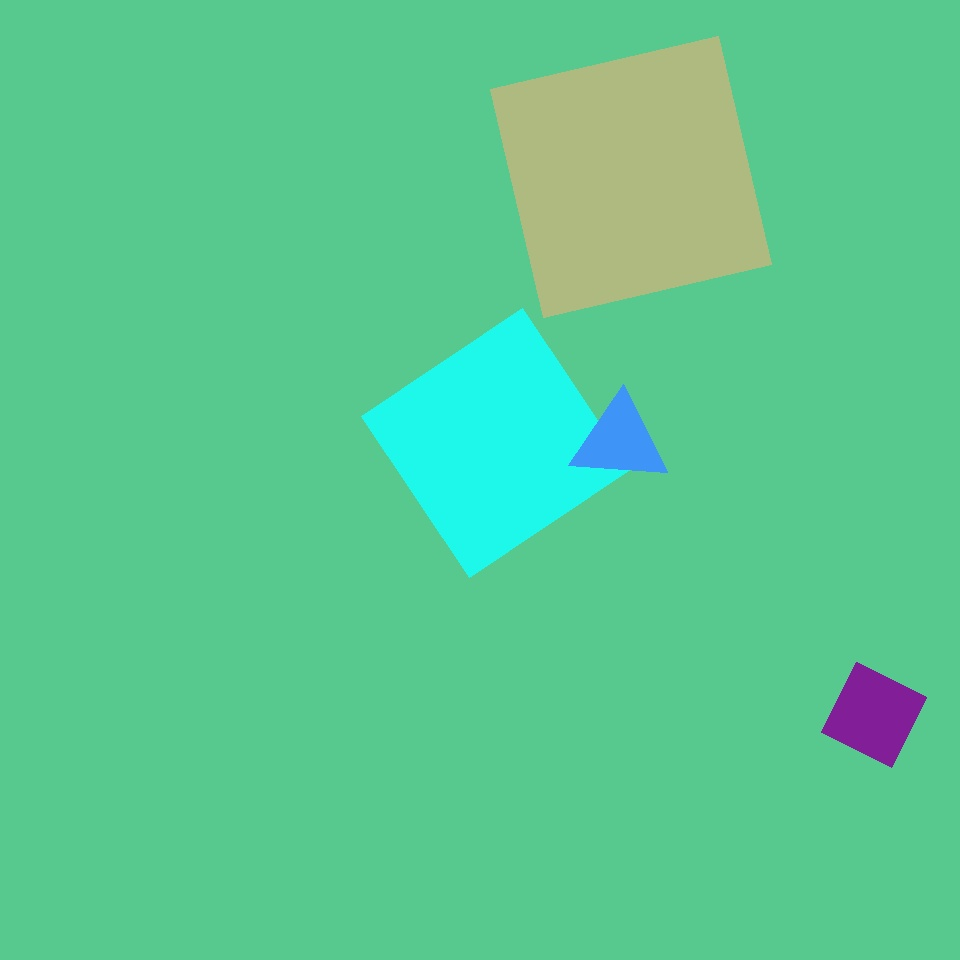circle: (571, 397, 670, 485)
square: (491, 36, 772, 318), (362, 309, 631, 578), (130, 337, 389, 596), (337, 684, 450, 798), (822, 662, 926, 768)
triangle: (291, 372, 635, 715), (105, 471, 418, 784), (404, 487, 671, 754)
